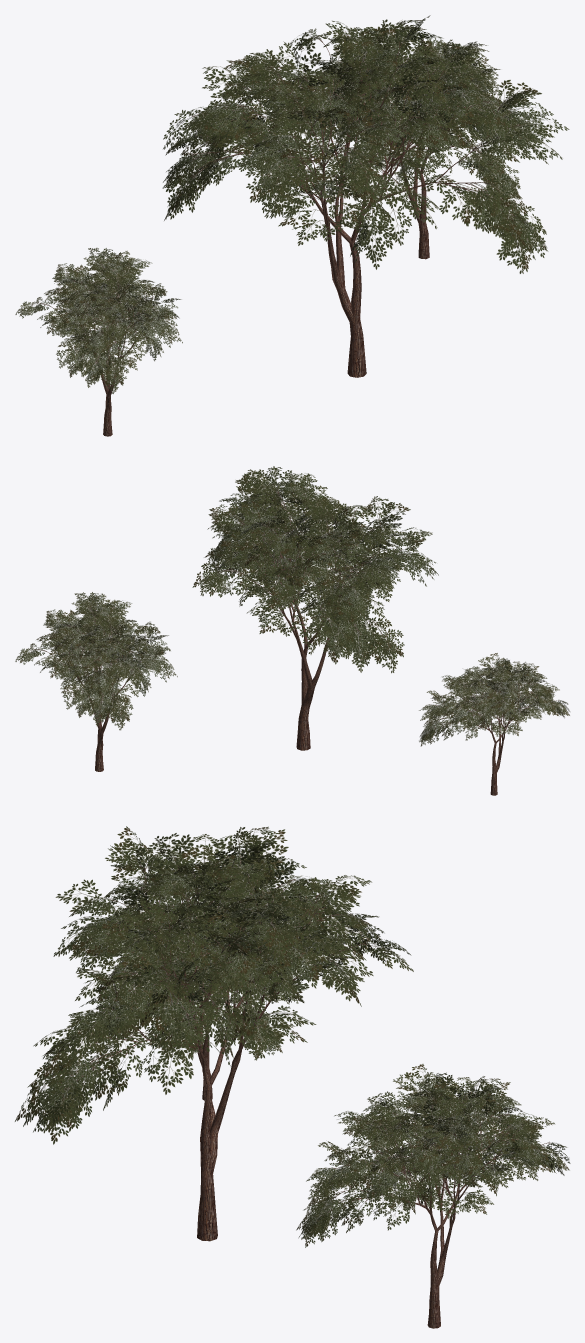
Rendered from asset.glb.
The picture shows the model from 3 angles, top to bottom: view 1: azimuth 30°, elevation 25°; view 2: azimuth 150°, elevation 25°; view 3: azimuth 270°, elevation 25°; orthographic projection. The views are drawn at different scales.
Visible parts, largest first — view 1: polySurface1, polySurface1.001, polySurface1.002; view 2: polySurface1, polySurface1.002, polySurface1.001; view 3: polySurface1, polySurface1.002, polySurface1.001.
Boxes of the visible parts, x1,y1,x2,y2 form: polySurface1: (162, 15, 569, 377); polySurface1.001: (15, 248, 182, 436); polySurface1.002: (308, 36, 540, 259); polySurface1: (192, 466, 438, 750); polySurface1.002: (15, 592, 177, 771); polySurface1.001: (419, 653, 570, 795); polySurface1: (15, 826, 413, 1241); polySurface1.002: (296, 1064, 570, 1328); polySurface1.001: (108, 903, 299, 1100).
Size of the model in its own units: 0.5249 by 0.3058 by 0.3923.
4 materials, 4 textured.
